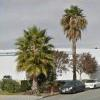Palm tree: (57, 4, 93, 88)
